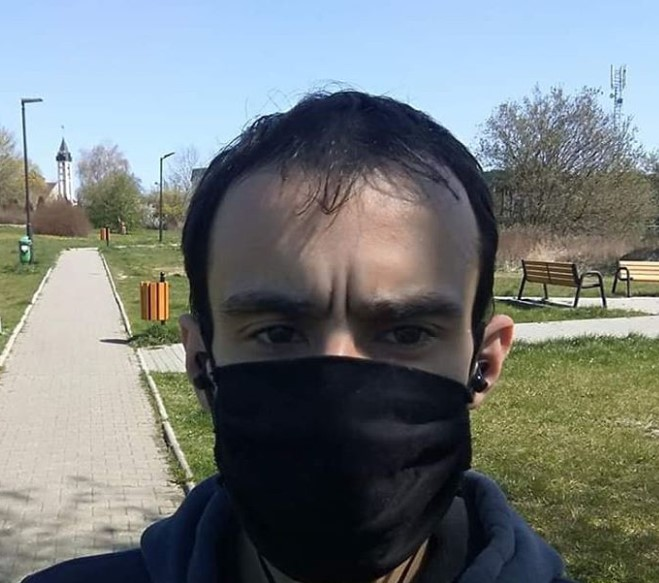face_with_mask: (206, 125, 480, 541)
